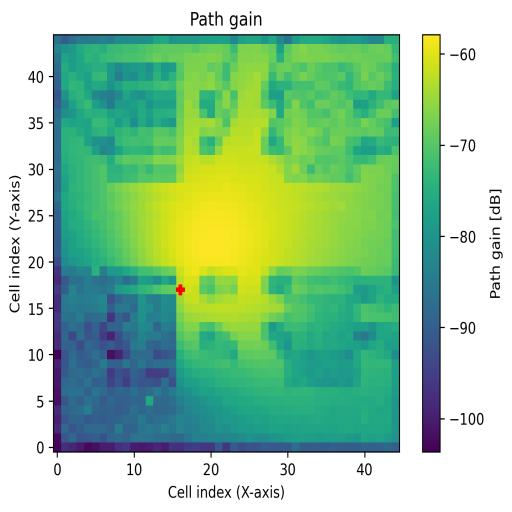Concrete: (284, 62, 362, 184)
Glass: (107, 63, 177, 182)
Metal: (278, 268, 362, 388)
Wood: (100, 266, 176, 388)
